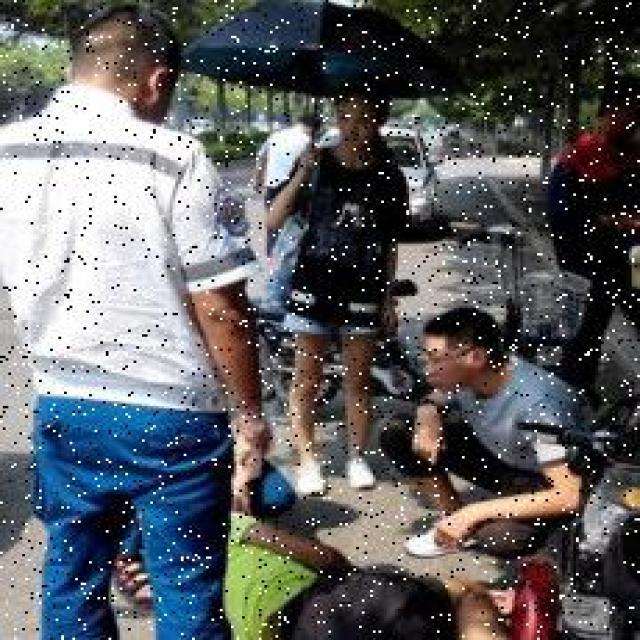fall: (208, 492, 518, 638)
